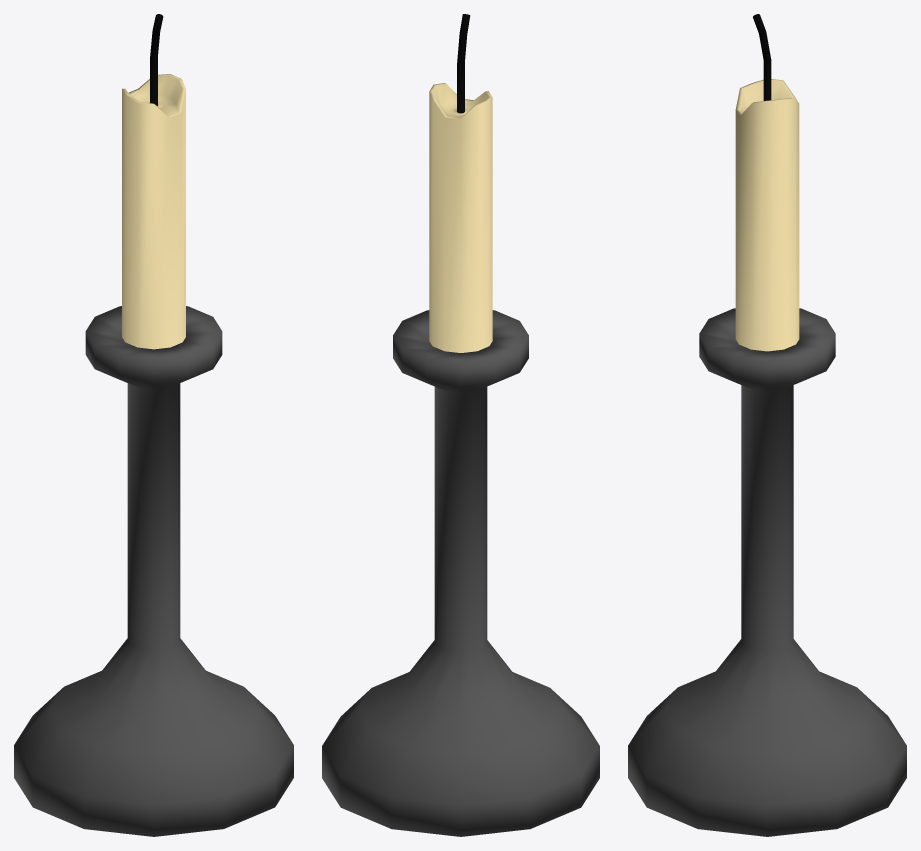
File: Candle.fbx
3 renders of one model, left to right at view 1: azimuth 30°, elevation 25°; view 2: azimuth 150°, elevation 25°; view 3: azimuth 270°, elevation 25°, orthographic.
Parts seen in each view (by area): view 1: Cylinder.003; view 2: Cylinder.003; view 3: Cylinder.003.
Part boxes in pixels (x1,y1,x2,y2): Cylinder.003: (14, 14, 293, 836); Cylinder.003: (322, 14, 599, 836); Cylinder.003: (628, 14, 906, 836).
Bounding box in the file's own units: 17.52 × 52.92 × 17.52.
